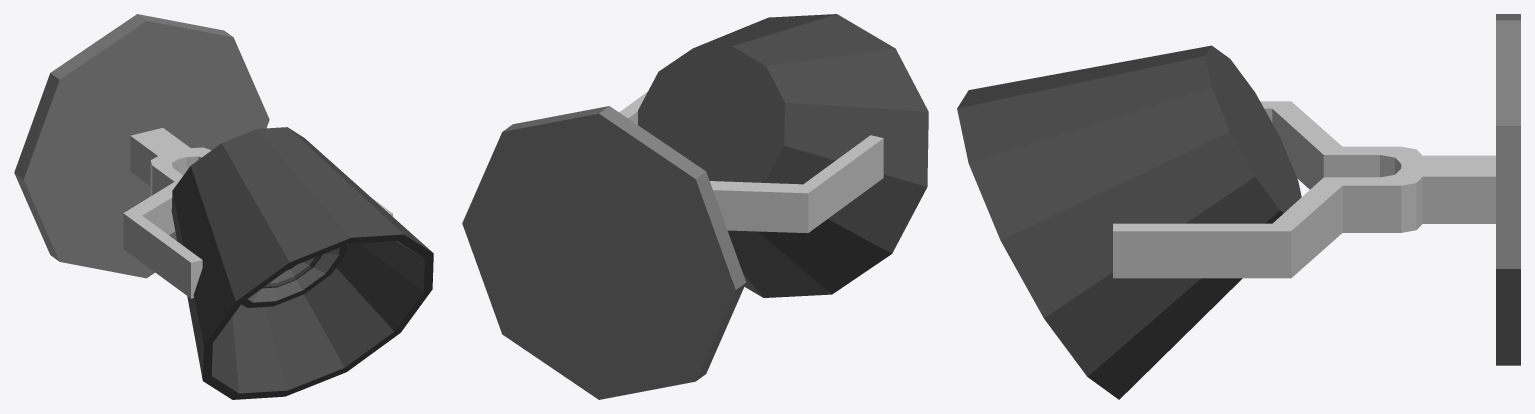
The model's file is ParlanteNarrador.fbx.
3 renders of one model, left to right at view 1: azimuth 30°, elevation 25°; view 2: azimuth 150°, elevation 25°; view 3: azimuth 270°, elevation 25°, orthographic. The views are drawn at different scales.
Visible parts, largest first — view 1: ParlanteNarrador; view 2: ParlanteNarrador; view 3: ParlanteNarrador.
Part boxes in pixels (x1,y1,x2,y2): ParlanteNarrador: [14, 14, 433, 399]; ParlanteNarrador: [462, 14, 928, 399]; ParlanteNarrador: [957, 14, 1520, 399].
Size of the model in its own units: 33.29 by 35.46 by 50.17.
Materials: 1 (1 with a texture image).
